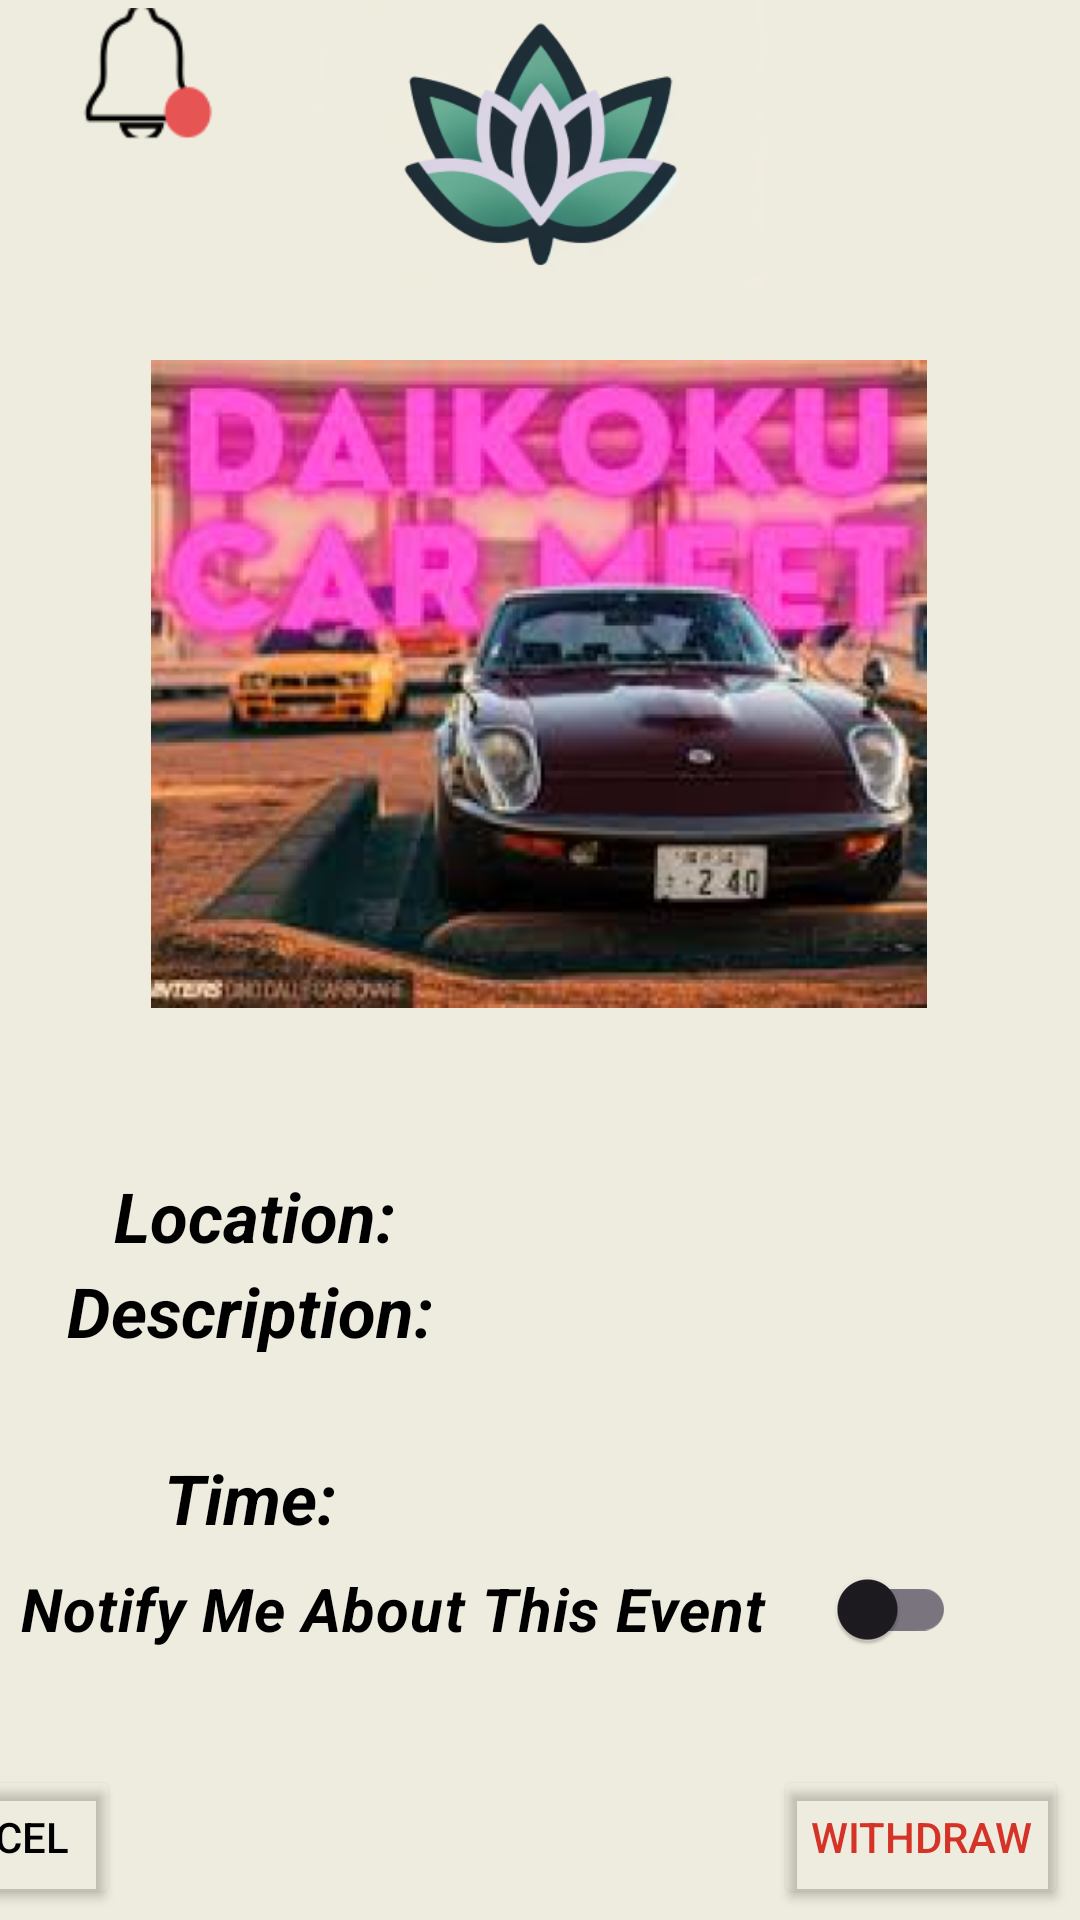

Named icons in this screenshot (1080px×1920px) and their centers, [x,y]:
notifbell: [148,73]
